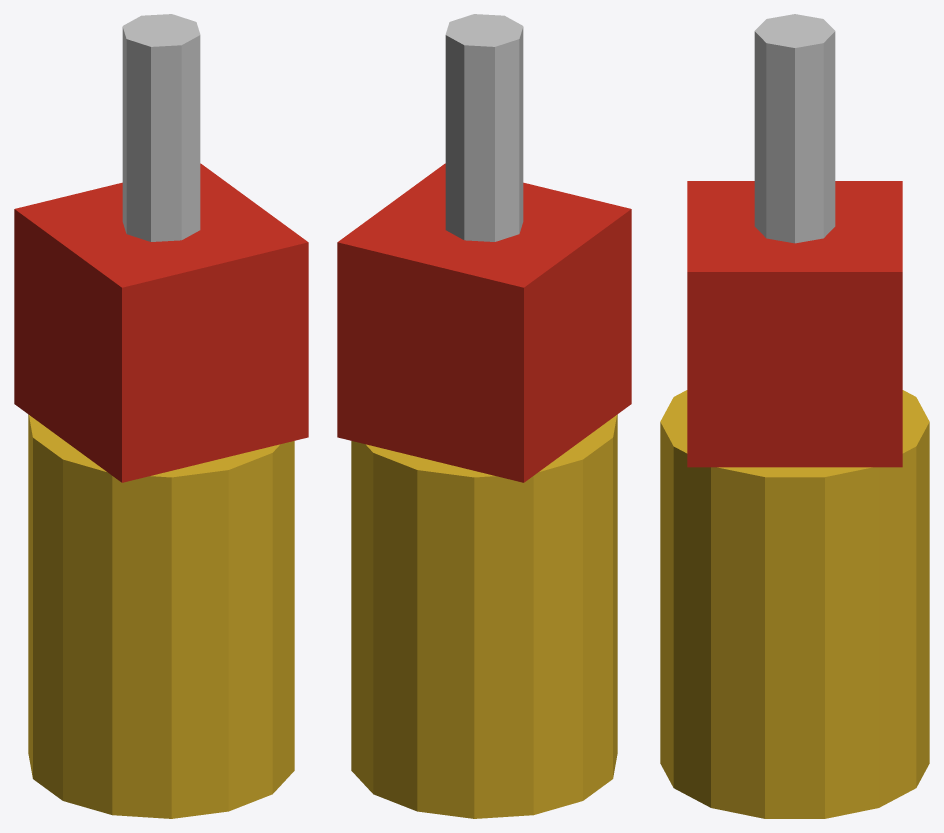
Rendered from airburst_fuse.obj.
The picture shows the model from 3 angles, left to right: view 1: azimuth 30°, elevation 25°; view 2: azimuth 150°, elevation 25°; view 3: azimuth 270°, elevation 25°; orthographic projection.
Visible parts, largest first — view 1: airburst_fuse; view 2: airburst_fuse; view 3: airburst_fuse.
Boxes of the visible parts, box(x1,y1,x2,y2) form: airburst_fuse: box(14, 14, 308, 818); airburst_fuse: box(337, 14, 631, 818); airburst_fuse: box(660, 14, 929, 818).
Bounding box in the file's own units: 0.0975 × 0.3 × 0.1.
